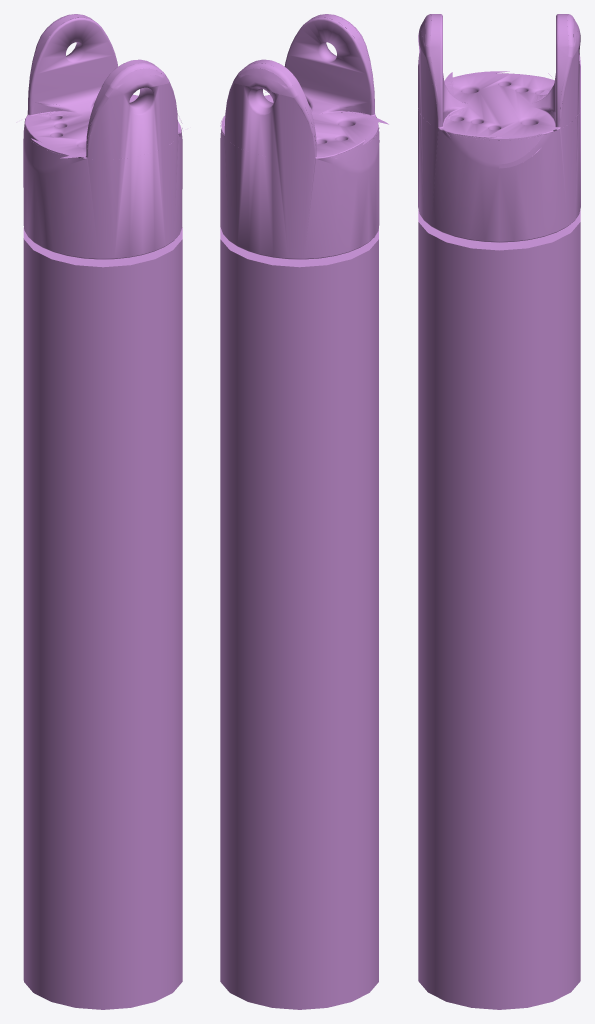
Rendered from test_cylin.obj.
3 renders of one model, left to right at view 1: azimuth 30°, elevation 25°; view 2: azimuth 150°, elevation 25°; view 3: azimuth 270°, elevation 25°, orthographic. The views are drawn at different scales.
Visible parts, largest first — view 1: 332009_DC_Shell; view 2: 332009_DC_Shell; view 3: 332009_DC_Shell.
Part boxes in pixels (x1=…): 332009_DC_Shell: x1=16, y1=14, x2=182, y2=1009; 332009_DC_Shell: x1=220, y1=14, x2=388, y2=1009; 332009_DC_Shell: x1=418, y1=14, x2=580, y2=1009.
Size of the model in its own units: 0.3322 by 2.13 by 0.328.
